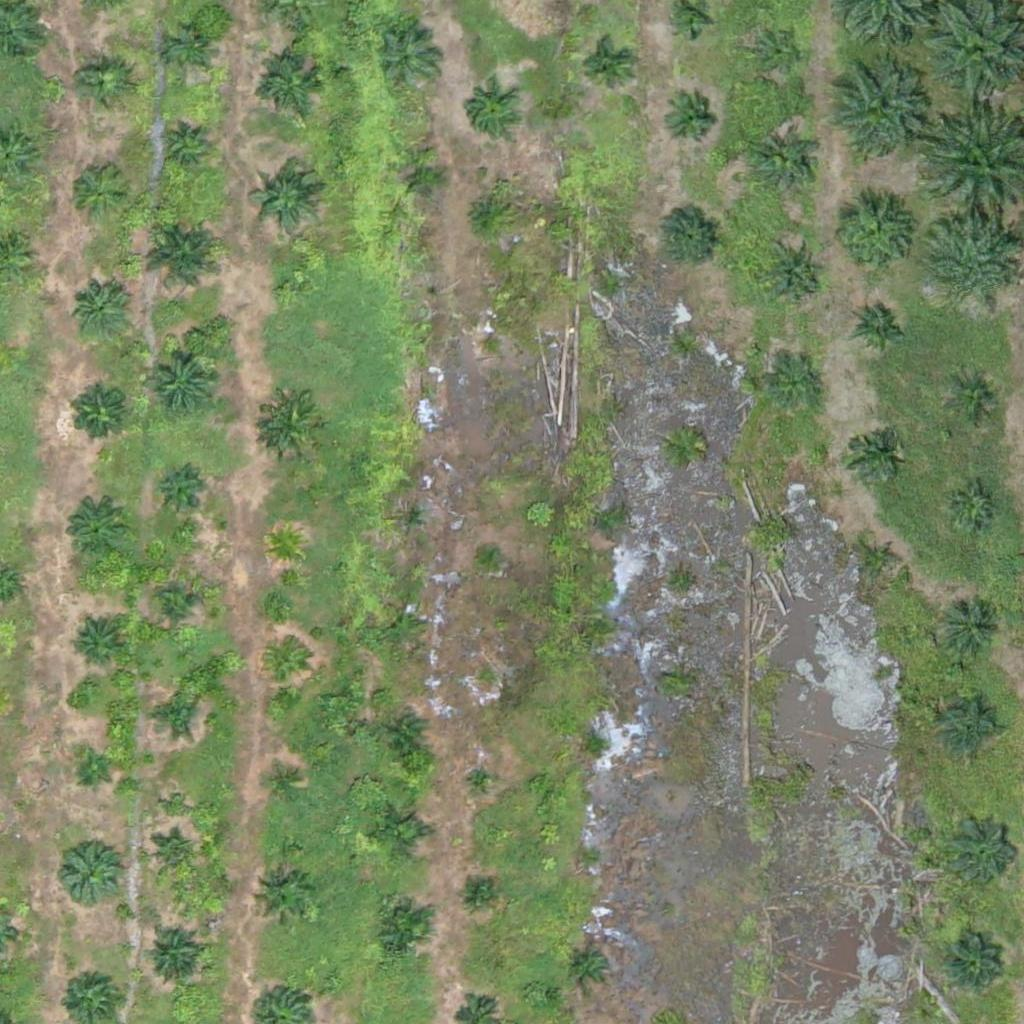Kelapa_Sawit: (826, 69, 926, 169), (828, 192, 915, 280), (928, 219, 1015, 307), (140, 212, 227, 300), (248, 163, 323, 239), (143, 343, 218, 418), (946, 811, 1021, 886), (57, 839, 120, 902), (66, 161, 129, 224), (69, 278, 132, 341), (763, 244, 826, 307), (377, 27, 440, 90), (658, 203, 721, 266), (260, 395, 323, 458), (942, 938, 1005, 1001), (63, 498, 125, 561), (67, 381, 129, 444), (757, 134, 819, 197), (260, 55, 322, 118), (141, 923, 203, 986), (251, 867, 313, 930), (371, 900, 433, 963), (942, 598, 1004, 661), (941, 695, 1003, 758), (851, 296, 913, 359), (370, 801, 432, 864), (69, 619, 119, 670), (580, 40, 630, 91), (664, 94, 714, 145), (146, 689, 196, 740), (398, 153, 448, 204), (460, 188, 510, 239), (78, 60, 128, 110), (150, 469, 200, 519), (770, 363, 820, 413), (846, 427, 896, 477), (465, 86, 515, 136), (948, 483, 998, 533), (949, 374, 999, 424), (751, 25, 801, 75), (566, 941, 616, 991), (147, 832, 197, 882), (151, 583, 201, 633), (159, 121, 208, 172), (863, 541, 901, 579), (266, 526, 304, 564), (464, 763, 502, 801), (388, 715, 426, 753), (268, 648, 306, 686), (267, 768, 305, 806), (384, 606, 422, 644), (169, 30, 206, 68), (393, 500, 430, 538), (74, 752, 111, 790), (466, 879, 491, 905), (478, 540, 503, 565), (475, 331, 500, 356), (276, 278, 301, 303)
